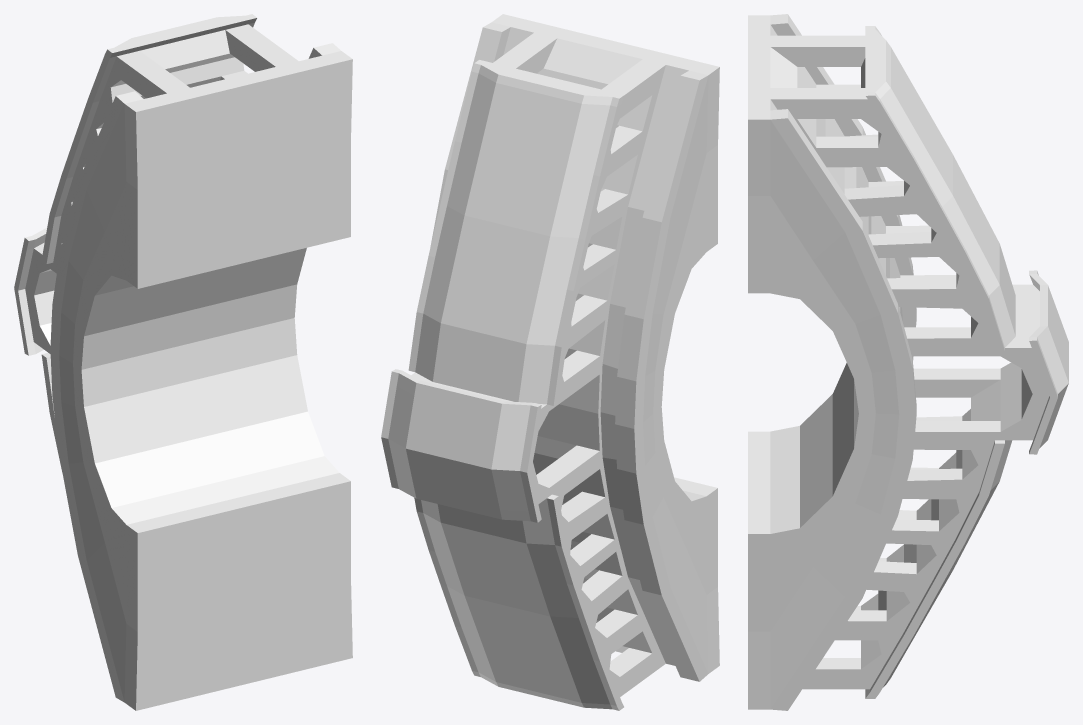
Rendered from venice_bridge_0.fbx.
3 renders of one model, left to right at view 1: azimuth 30°, elevation 25°; view 2: azimuth 150°, elevation 25°; view 3: azimuth 270°, elevation 25°, orthographic.
Visible parts, largest first — view 1: Cube.355; view 2: Cube.355; view 3: Cube.355.
Part boxes in pixels (bbox=[...]): Cube.355: bbox=[14, 14, 352, 710]; Cube.355: bbox=[381, 14, 719, 710]; Cube.355: bbox=[748, 14, 1068, 710].
Size of the model in its own units: 1267 by 3418 by 1647.
